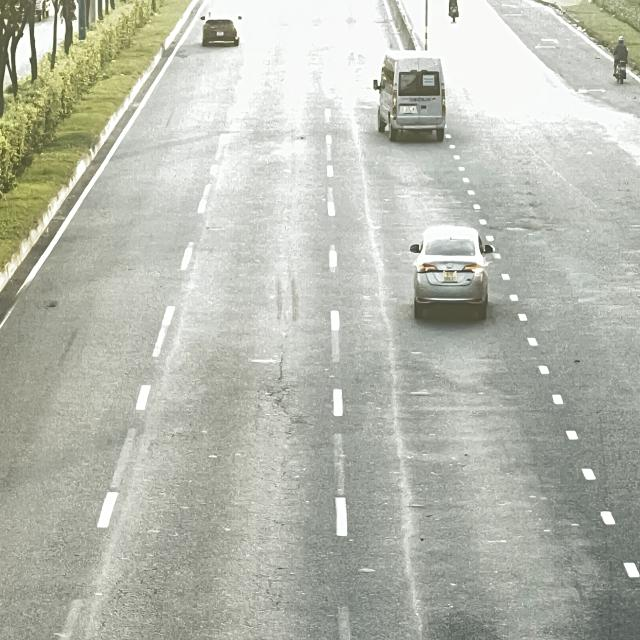car: (410, 227, 494, 323)
van: (374, 50, 447, 140)
